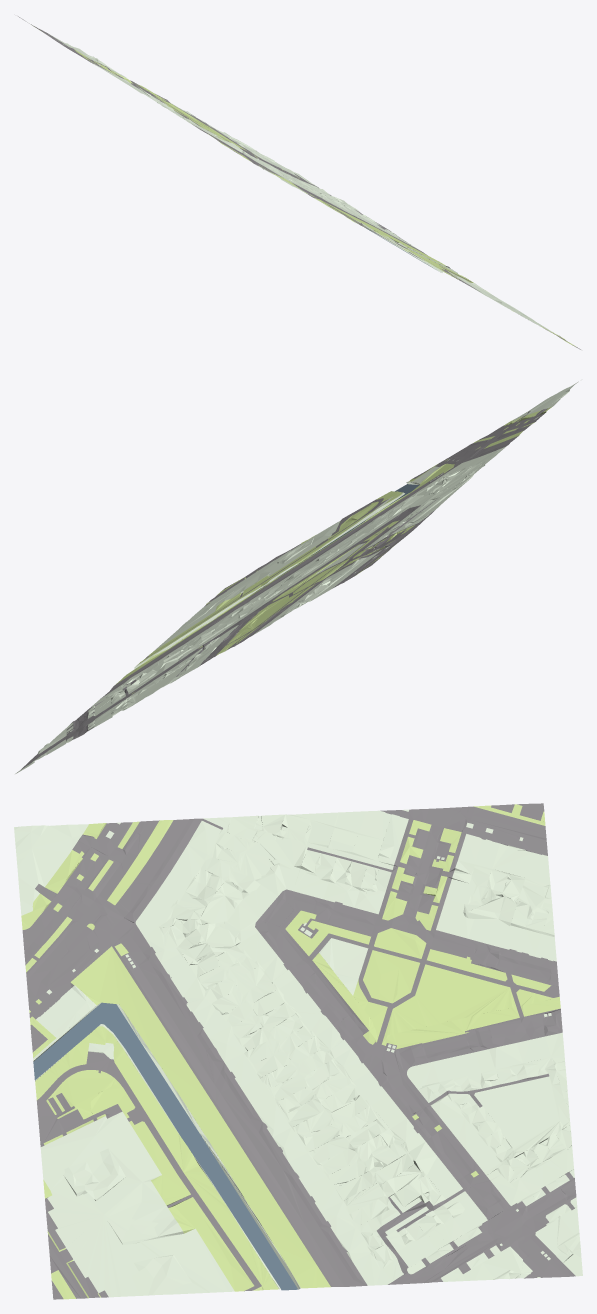
3 renders of one model, top to bottom at view 1: azimuth 30°, elevation 25°; view 2: azimuth 150°, elevation 25°; view 3: azimuth 270°, elevation 25°, orthographic. The views are drawn at different scales.
Bounding box in the file's own units: 218 × 156 × 268.
